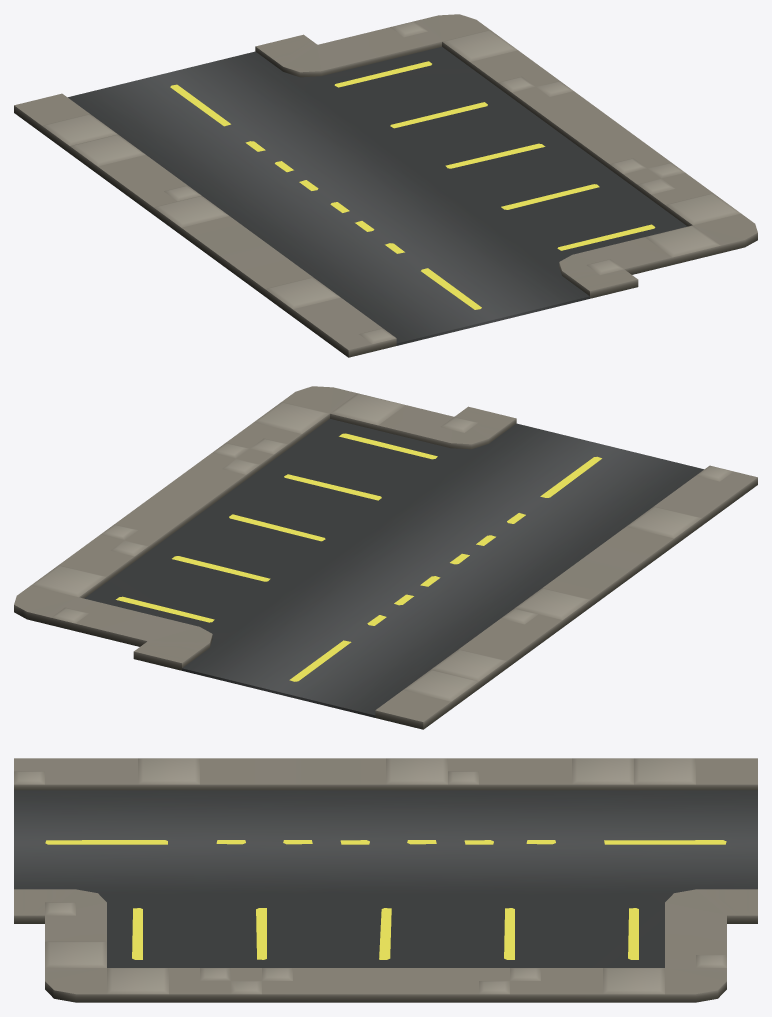
File: Road_1J.fbx
The picture shows the model from 3 angles, top to bottom: view 1: azimuth 30°, elevation 25°; view 2: azimuth 150°, elevation 25°; view 3: azimuth 270°, elevation 25°; orthographic projection. The views are drawn at different scales.
Parts seen in each view (by area): view 1: Road_1J; view 2: Road_1J; view 3: Road_1J.
Part boxes in pixels (<box>): Road_1J: <box>14,14,757,357</box>; Road_1J: <box>14,386,757,729</box>; Road_1J: <box>14,758,757,1002</box>.
Size of the model in its own units: 18 by 0.3565 by 24.
